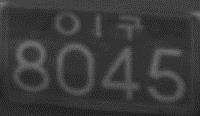0: (55, 41, 95, 96), (53, 9, 82, 37)
1: (86, 14, 108, 37)
4: (101, 46, 141, 101)
5: (146, 47, 186, 103)
8: (12, 38, 51, 93)
구: (116, 14, 143, 41)
